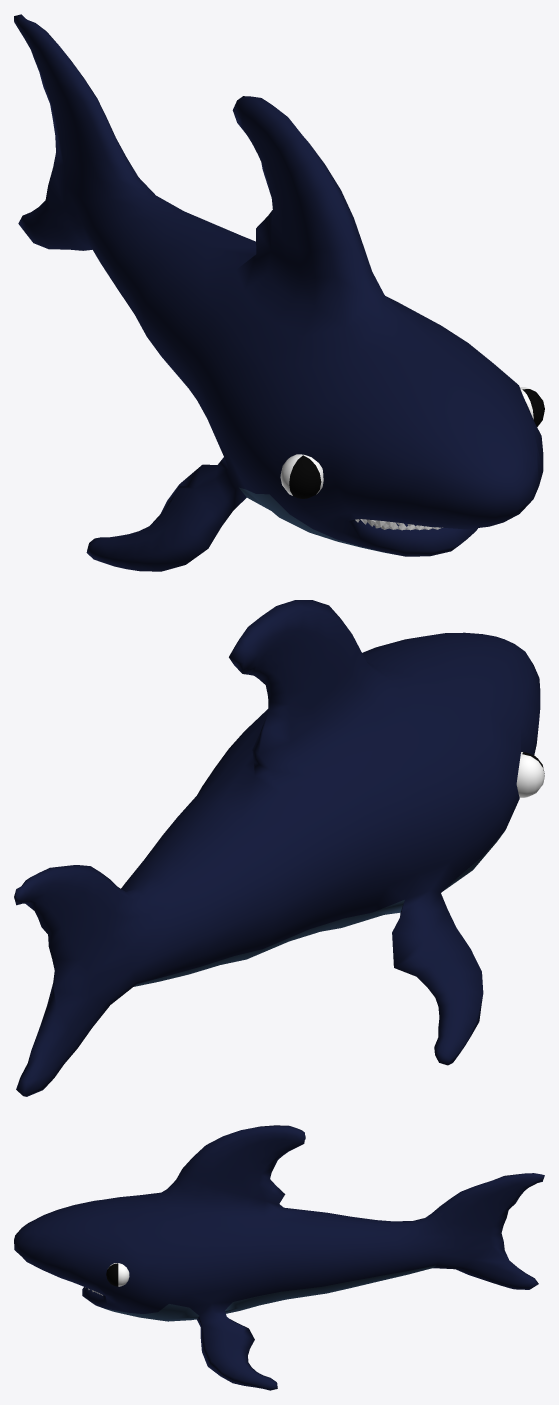
File: tiburon.fbx
The picture shows the model from 3 angles, top to bottom: view 1: azimuth 30°, elevation 25°; view 2: azimuth 150°, elevation 25°; view 3: azimuth 270°, elevation 25°; orthographic projection. The views are drawn at different scales.
Parts seen in each view (by area): view 1: cartoon_shark_001; view 2: cartoon_shark_001; view 3: cartoon_shark_001.
Boxes of the visible parts, x1,y1,x2,y2 form: cartoon_shark_001: (14,14,544,571); cartoon_shark_001: (14,600,544,1096); cartoon_shark_001: (14,1125,544,1390).
Size of the model in its own units: 3.23 by 3.4 by 7.52.
